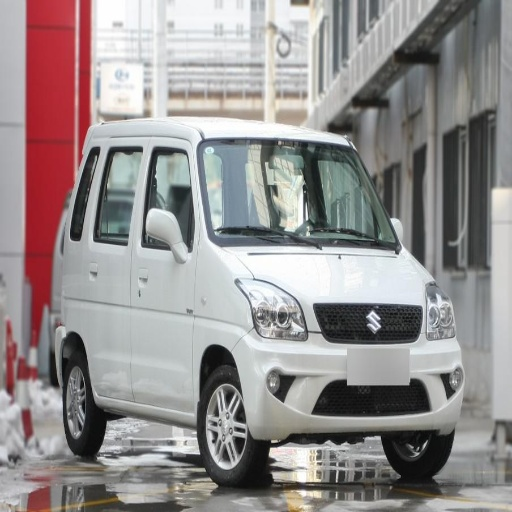front_bumper: (242, 300, 464, 441)
front_left_light: (422, 284, 456, 340)
front_right_door: (132, 141, 199, 410), (101, 147, 136, 220)
front_right_light: (236, 279, 308, 340)
hood: (235, 248, 430, 304)
